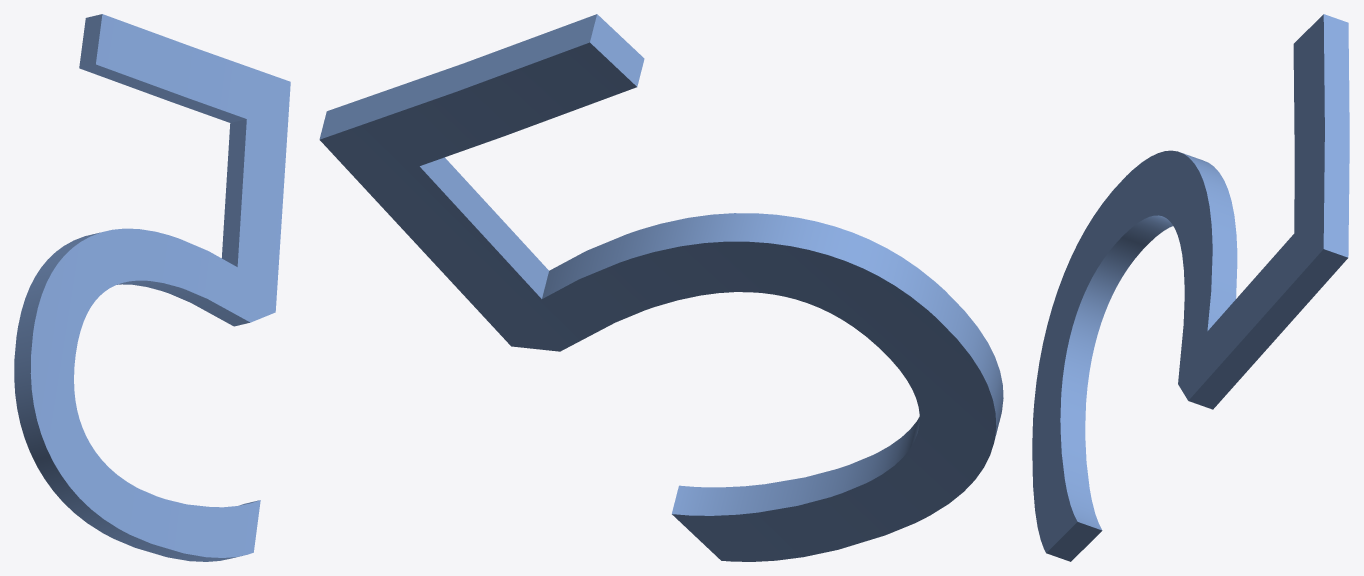
File: Number_5.gltf
The picture shows the model from 3 angles, left to right: view 1: azimuth 30°, elevation 25°; view 2: azimuth 150°, elevation 25°; view 3: azimuth 270°, elevation 25°; orthographic projection. The views are drawn at different scales.
Visible parts, largest first — view 1: Sub_8_Cell_1_2_Number_5; view 2: Sub_8_Cell_1_2_Number_5; view 3: Sub_8_Cell_1_2_Number_5.
Boxes of the visible parts, x1,y1,x2,y2 form: Sub_8_Cell_1_2_Number_5: [14, 14, 290, 561]; Sub_8_Cell_1_2_Number_5: [319, 14, 1003, 561]; Sub_8_Cell_1_2_Number_5: [1032, 14, 1349, 561].
Size of the model in its own units: 0.0211 by 0.0257 by 0.0139.
